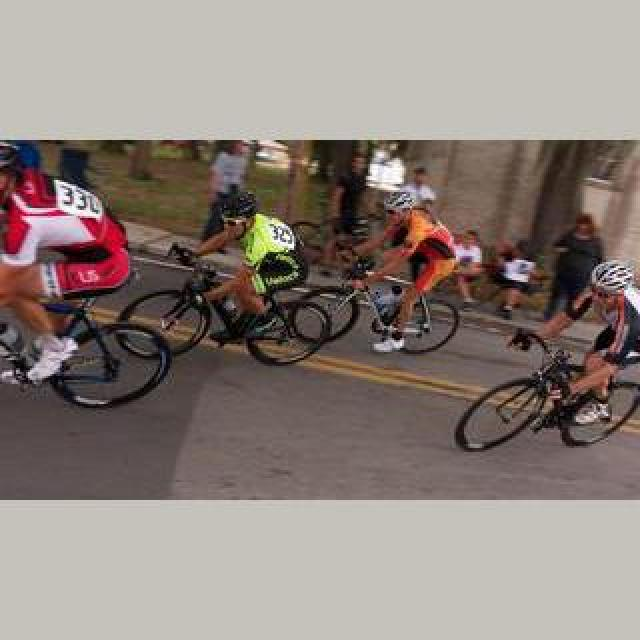MC-Bike: (2, 142, 118, 388), (534, 260, 640, 432), (192, 188, 302, 342), (366, 196, 456, 352)
Person: (124, 240, 330, 366), (0, 272, 170, 408), (454, 330, 638, 452), (304, 262, 460, 356)
